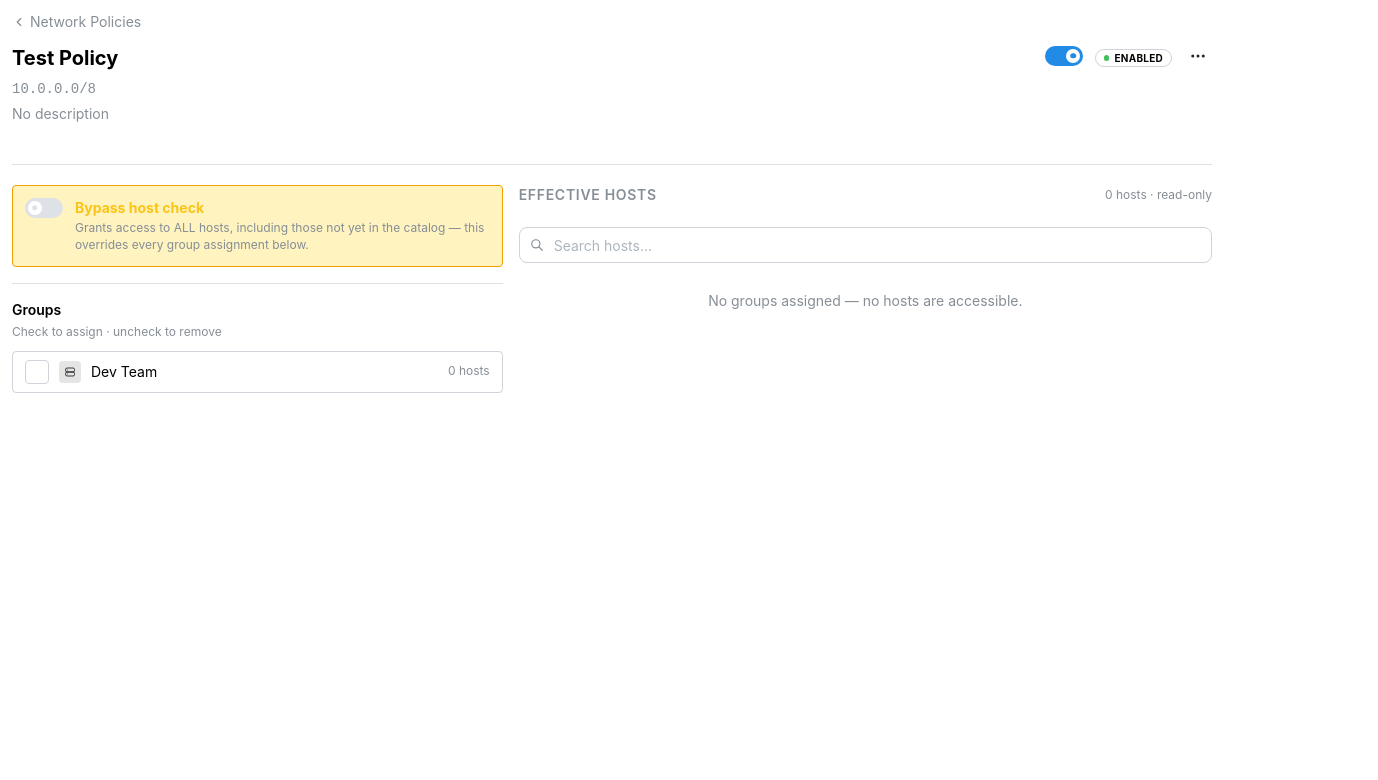
Test case: NetworkPolicyDetailPage › StagedChangesBar › appears when a group assignment is toggled
This screenshot has width=1378, height=780.
Expected: the text "Dev Team" is shown, [91,363,157,380]
Click the 3rd checkbox.
click(37, 372)  # box [25,360,49,384]
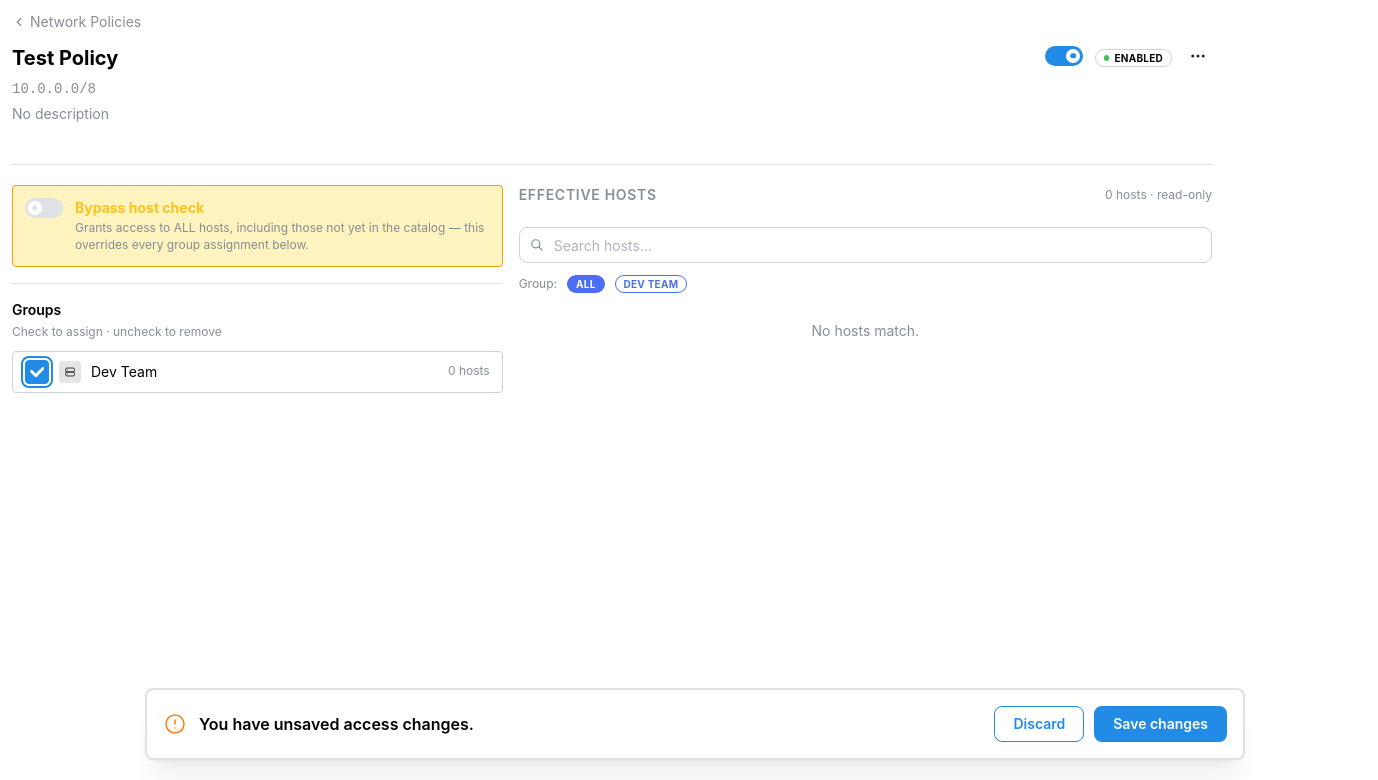
Expected: the button "Save changes" is shown, [1094,706,1227,742]
